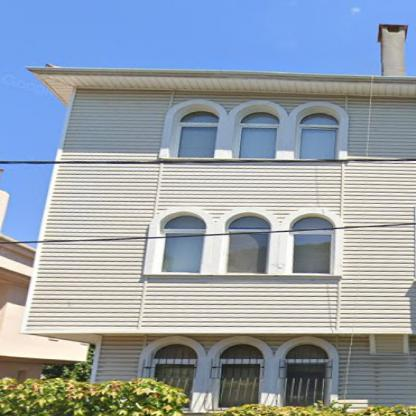window: (152, 344, 198, 404), (219, 344, 261, 407), (227, 216, 271, 274), (160, 215, 204, 272), (287, 344, 327, 406), (290, 217, 332, 274), (177, 112, 218, 157), (299, 113, 339, 159), (240, 112, 278, 158)
